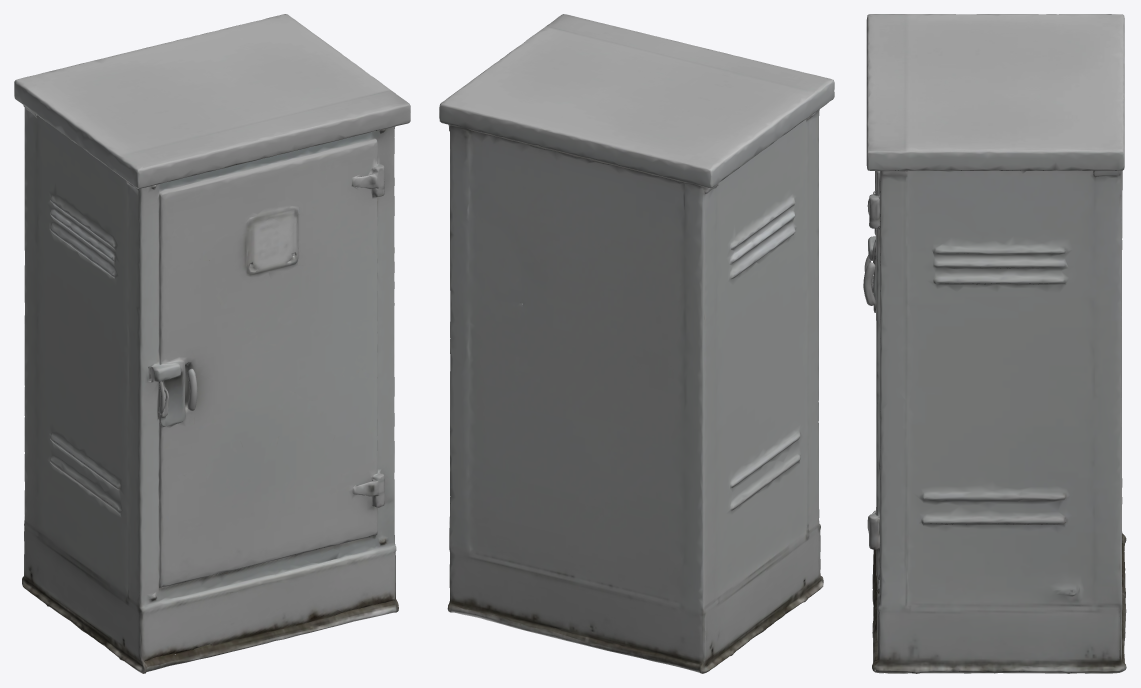
3 views of the same model, side by side, from view 1: azimuth 30°, elevation 25°; view 2: azimuth 150°, elevation 25°; view 3: azimuth 270°, elevation 25° (orthographic). The views are drawn at different scales.
Visible parts, largest first — view 1: geometry_0; view 2: geometry_0; view 3: geometry_0.
Boxes of the visible parts, x1,y1,x2,y2 form: geometry_0: (14,14,410,673); geometry_0: (439,14,834,673); geometry_0: (863,14,1126,673).
Bounding box in the file's own units: 0.5627 × 1 × 0.4528.
Materials: 1 (1 with a texture image).
